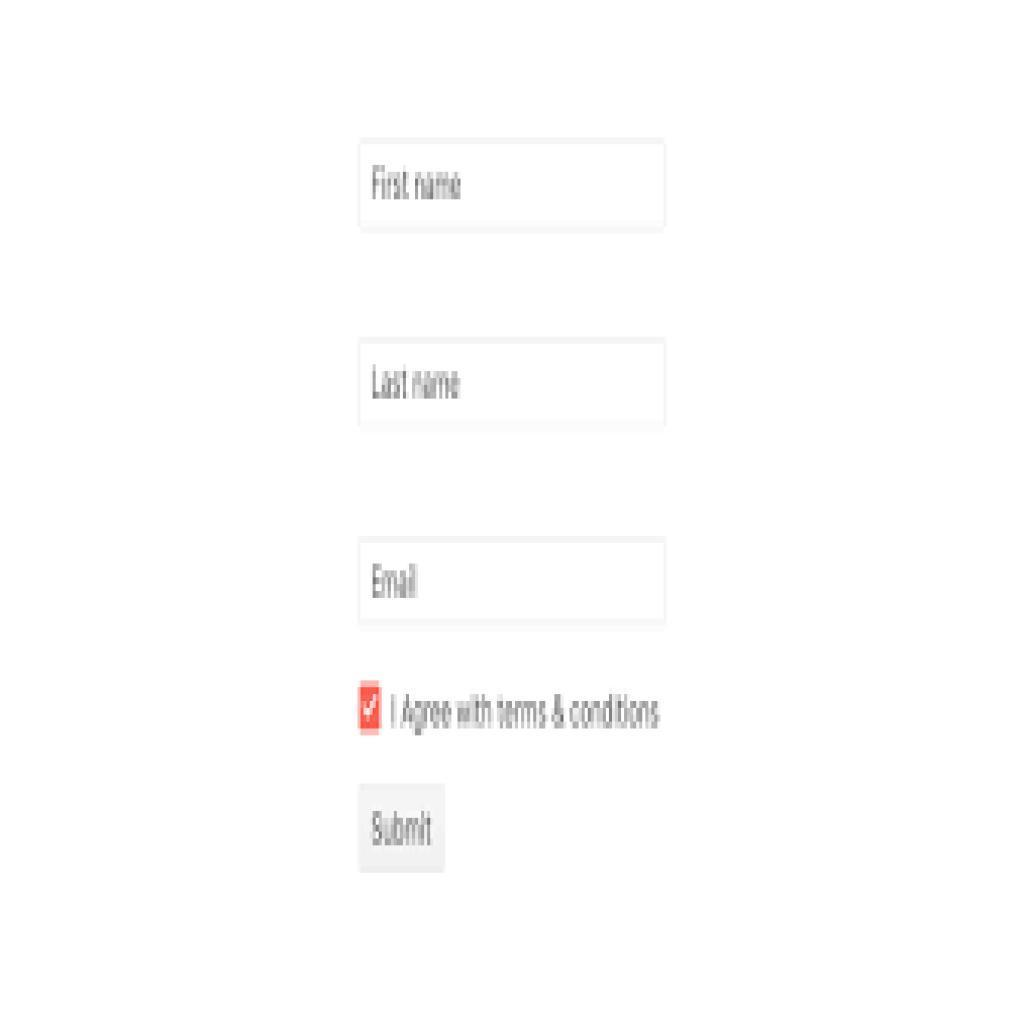button: (362, 783, 447, 870)
checkbox: (357, 679, 386, 734)
input: (362, 339, 669, 428), (357, 541, 670, 627), (363, 143, 666, 224)
